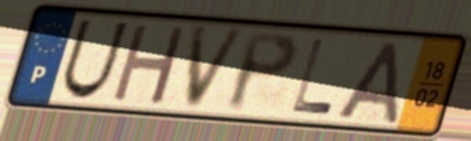A: (333, 38, 402, 126)
H: (108, 21, 191, 108)
L: (288, 36, 337, 117)
P: (224, 30, 301, 115)
U: (58, 16, 132, 102)
V: (182, 25, 250, 113)
